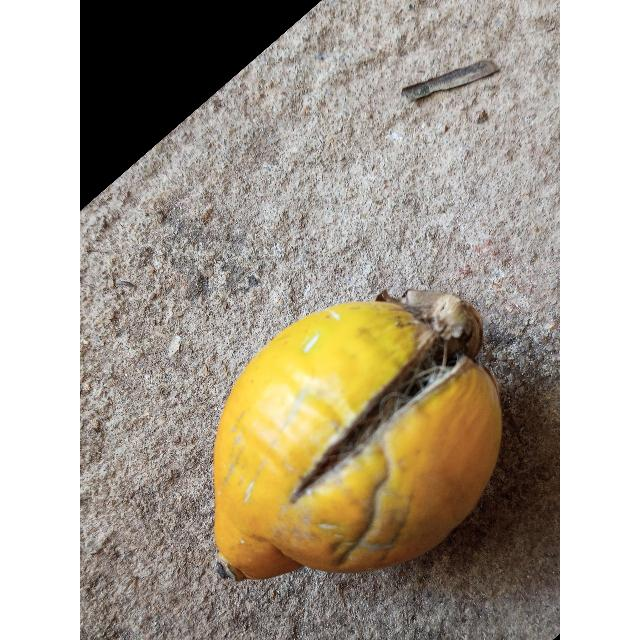damaged: (212, 297, 502, 583)
